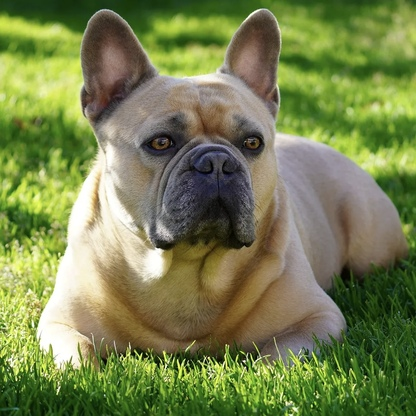bulldog: (36, 9, 408, 372)
